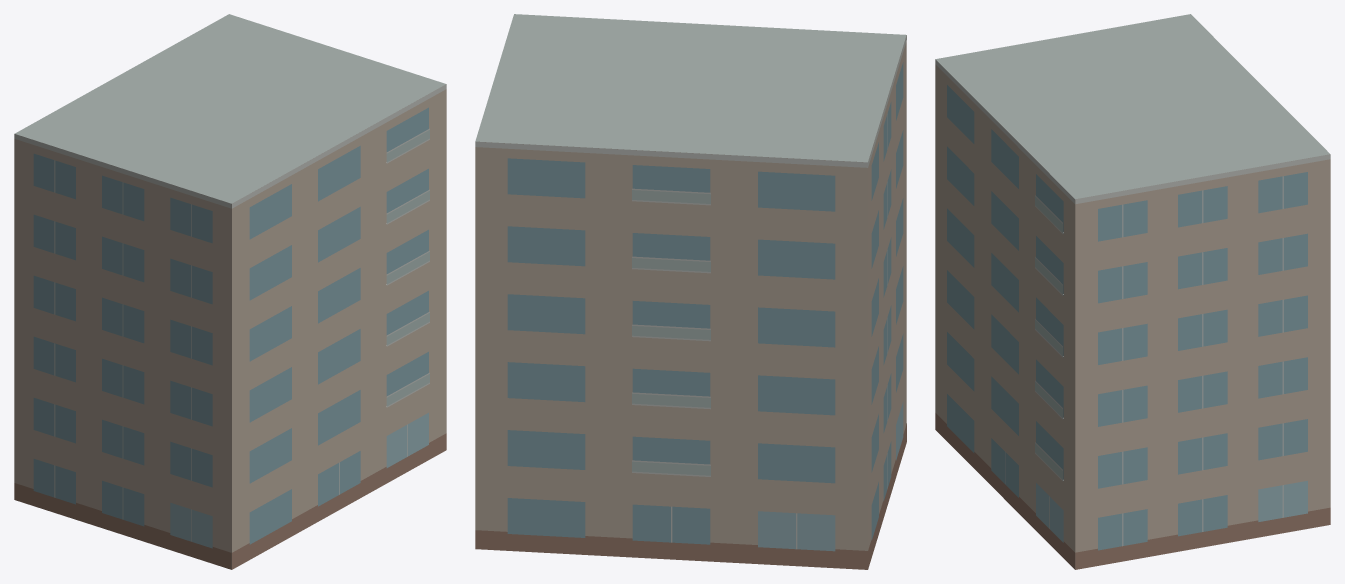
Rendered from survey-upis-32757879.glb.
3 views of the same model, side by side, from view 1: azimuth 30°, elevation 25°; view 2: azimuth 150°, elevation 25°; view 3: azimuth 270°, elevation 25° (orthographic). The views are drawn at different scales.
Visible parts, largest first — view 1: survey-upis-32757879.tmp; view 2: survey-upis-32757879.tmp; view 3: survey-upis-32757879.tmp.
Part boxes in pixels (x1,y1,x2,y2): survey-upis-32757879.tmp: (14, 14, 446, 569); survey-upis-32757879.tmp: (475, 14, 906, 569); survey-upis-32757879.tmp: (935, 14, 1330, 569).
Size of the model in its own units: 19.3 by 18 by 17.4.
